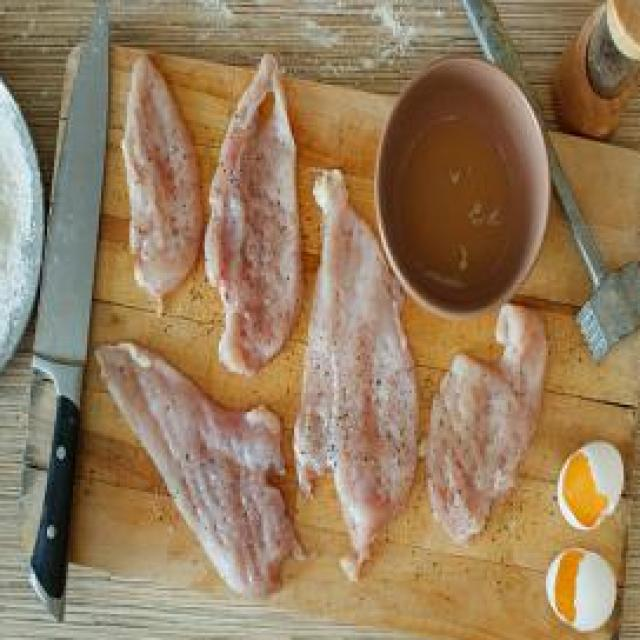knife: (16, 0, 116, 624)
